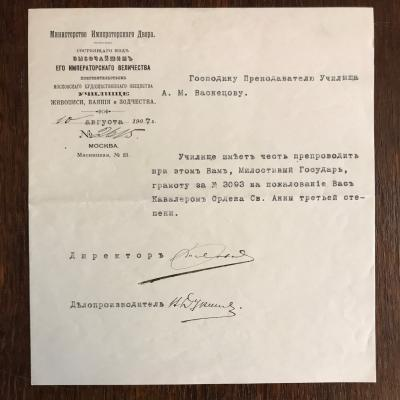document: (29, 9, 374, 384)
